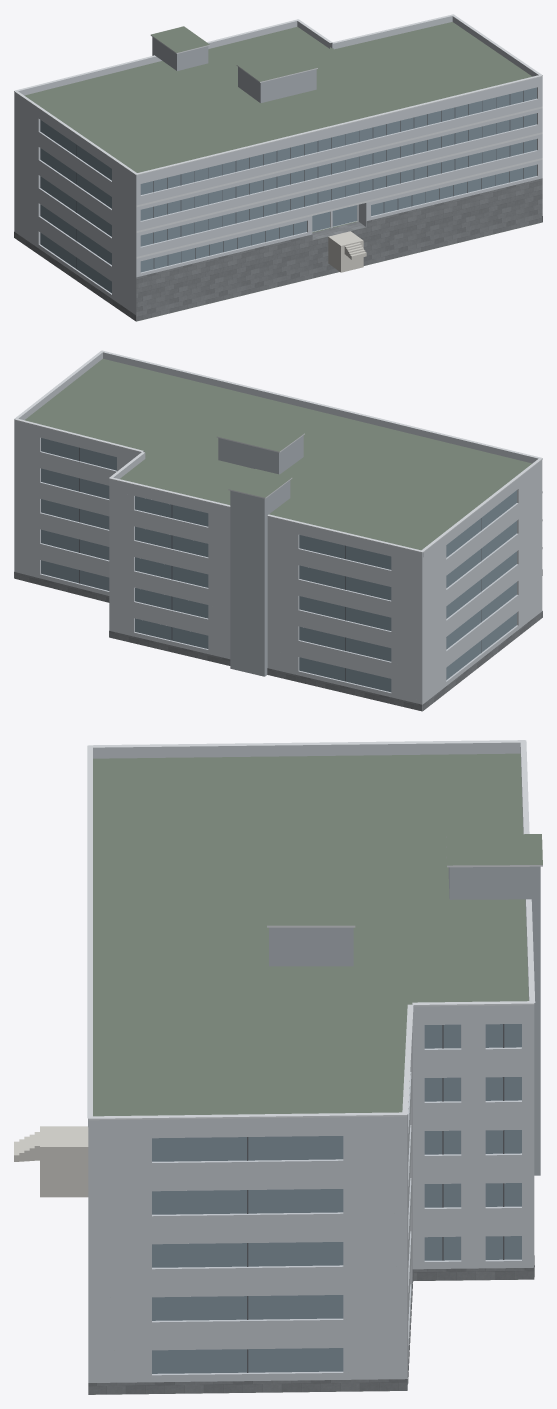
3 renders of one model, top to bottom at view 1: azimuth 30°, elevation 25°; view 2: azimuth 150°, elevation 25°; view 3: azimuth 270°, elevation 25°, orthographic. The views are drawn at different scales.
Visible parts, largest first — view 1: b313__roof, b313__wall, b313__glass, b313__base, b313__trim, b313__parapet, b313__wall2, b313__frame, b313__entranceStair; view 2: b313__wall, b313__roof, b313__glass, b313__wall2, b313__parapet, b313__base, b313__trim; view 3: b313__roof, b313__wall, b313__glass, b313__parapet, b313__wall2, b313__trim, b313__base, b313__entranceStair.
Part boxes in pixels (x1,y1,x2,y2): b313__roof: (24, 22, 539, 321); b313__wall: (14, 81, 542, 320); b313__glass: (40, 87, 536, 293); b313__base: (14, 178, 542, 321); b313__trim: (14, 14, 542, 258); b313__parapet: (14, 16, 542, 180); b313__wall2: (152, 37, 316, 103); b313__frame: (76, 90, 523, 268); b313__entranceStair: (328, 231, 366, 272); b313__wall: (14, 425, 542, 710); b313__roof: (25, 359, 531, 550); b313__glass: (41, 438, 516, 692); b313__wall2: (218, 435, 303, 676); b313__parapet: (14, 352, 542, 558); b313__base: (14, 569, 542, 711); b313__trim: (14, 350, 542, 552); b313__roof: (93, 753, 542, 1394); b313__wall: (88, 1014, 534, 1383); b313__glass: (152, 1024, 521, 1373); b313__parapet: (88, 742, 534, 1129); b313__wall2: (269, 866, 540, 1175); b313__trim: (87, 740, 542, 1120); b313__base: (88, 1255, 534, 1394); b313__entranceStair: (14, 1126, 88, 1197).
Size of the model in its own units: 55.14 by 21.17 by 32.55.
Materials: 10 (1 with a texture image).
